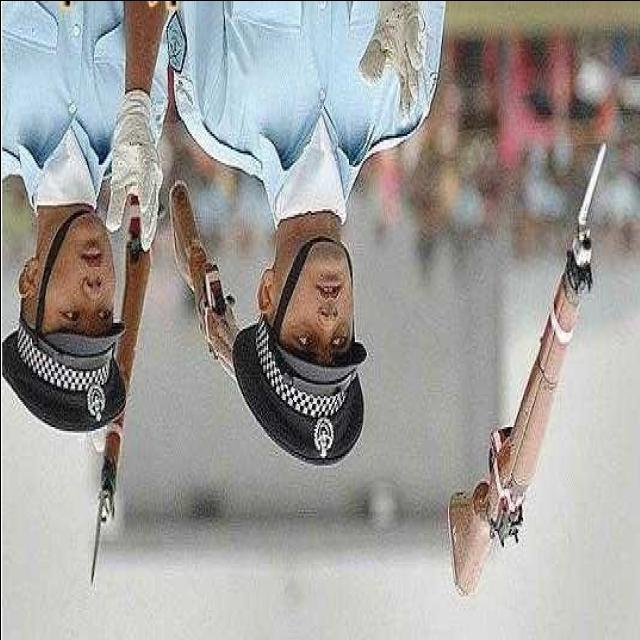heavyweapon: (430, 202, 605, 609), (86, 165, 157, 601)
